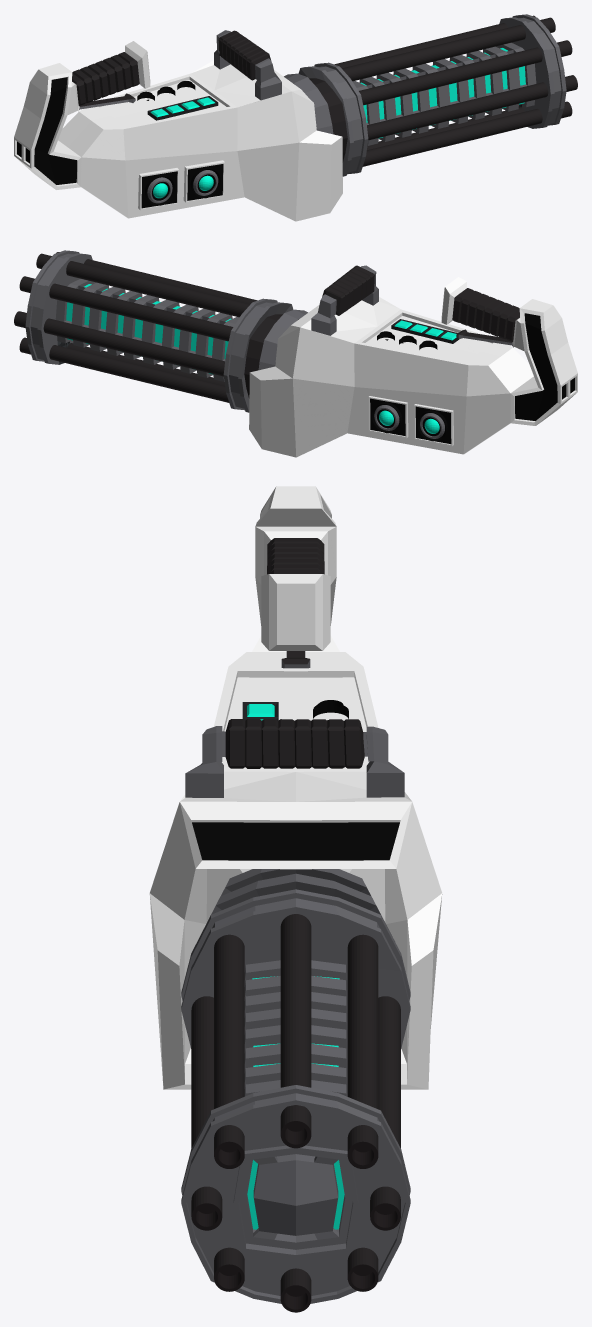
File: sulfateuse Fagerone.fbx
3 renders of one model, top to bottom at view 1: azimuth 30°, elevation 25°; view 2: azimuth 150°, elevation 25°; view 3: azimuth 270°, elevation 25°, orthographic. The views are drawn at different scales.
Parts seen in each view (by area): view 1: Cube; view 2: Cube; view 3: Cube.
Boxes of the visible parts, box(x1,y1,x2,y2) form: Cube: box(14, 14, 577, 221); Cube: box(14, 250, 577, 457); Cube: box(149, 486, 442, 1312).
Size of the model in its own units: 6.86 by 2.25 by 1.64.
Materials: 2 (2 with a texture image).
